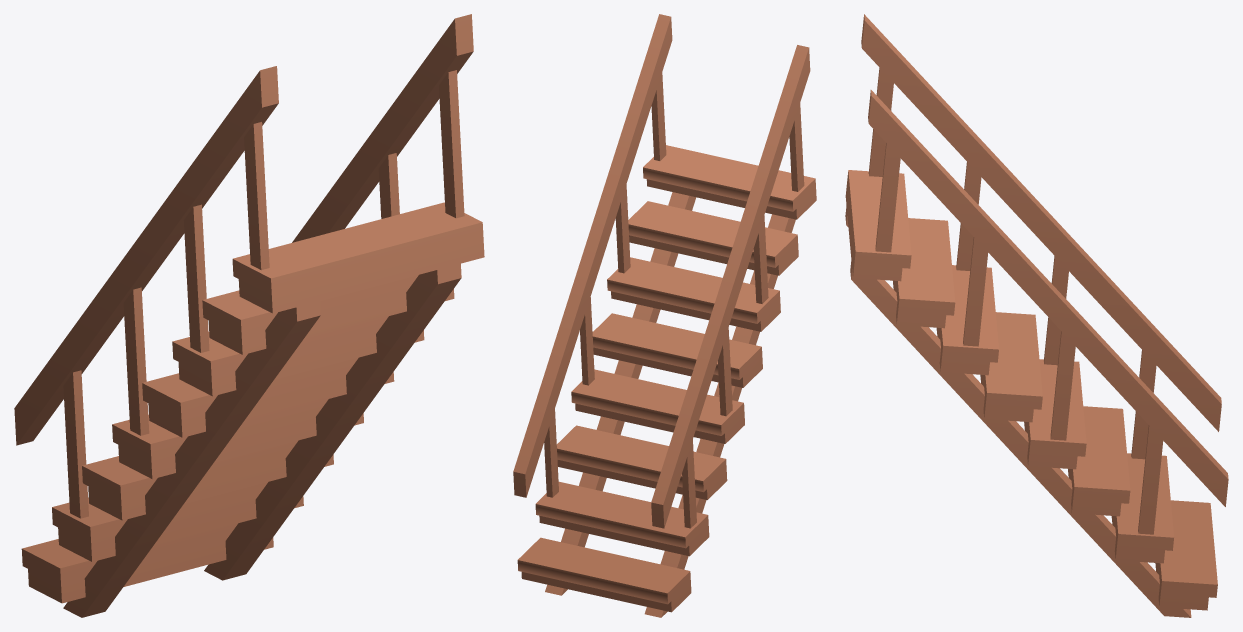
File: stairs-wood-handrail.001_lev3.glb
The picture shows the model from 3 angles, left to right: view 1: azimuth 30°, elevation 25°; view 2: azimuth 150°, elevation 25°; view 3: azimuth 270°, elevation 25°; orthographic projection. The views are drawn at different scales.
Parts seen in each view (by area): view 1: stairs-wood-handrail.001_lev3; view 2: stairs-wood-handrail.001_lev3; view 3: stairs-wood-handrail.001_lev3.
Part boxes in pixels (x1,y1,x2,y2): stairs-wood-handrail.001_lev3: [14, 14, 484, 617]; stairs-wood-handrail.001_lev3: [513, 14, 816, 617]; stairs-wood-handrail.001_lev3: [845, 14, 1228, 617].
Bounding box in the file's own units: 2.94 × 8.37 × 5.42.
Materials: 1 (1 with a texture image).
